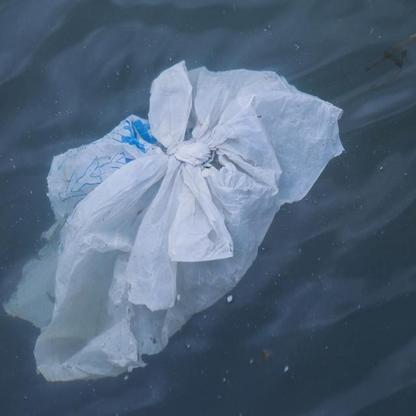plastic bag: (3, 58, 346, 378)
